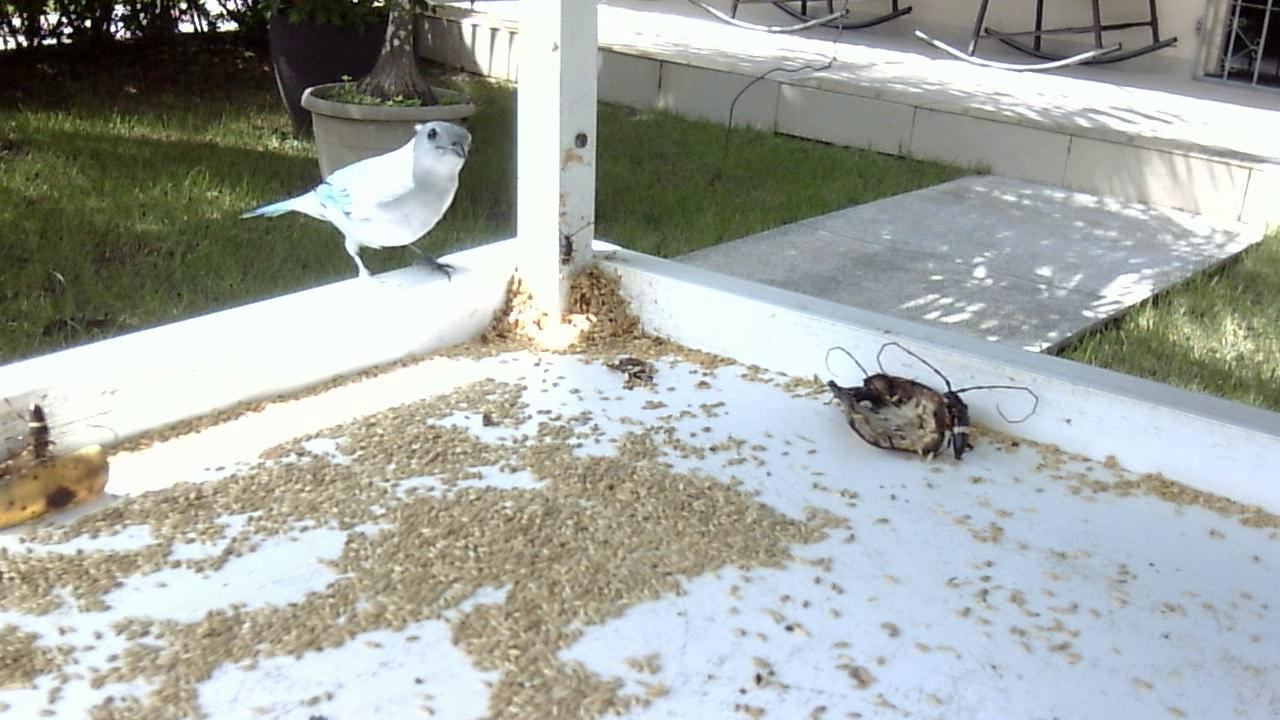sanhaco_da_amazonia: (236, 115, 472, 288)
